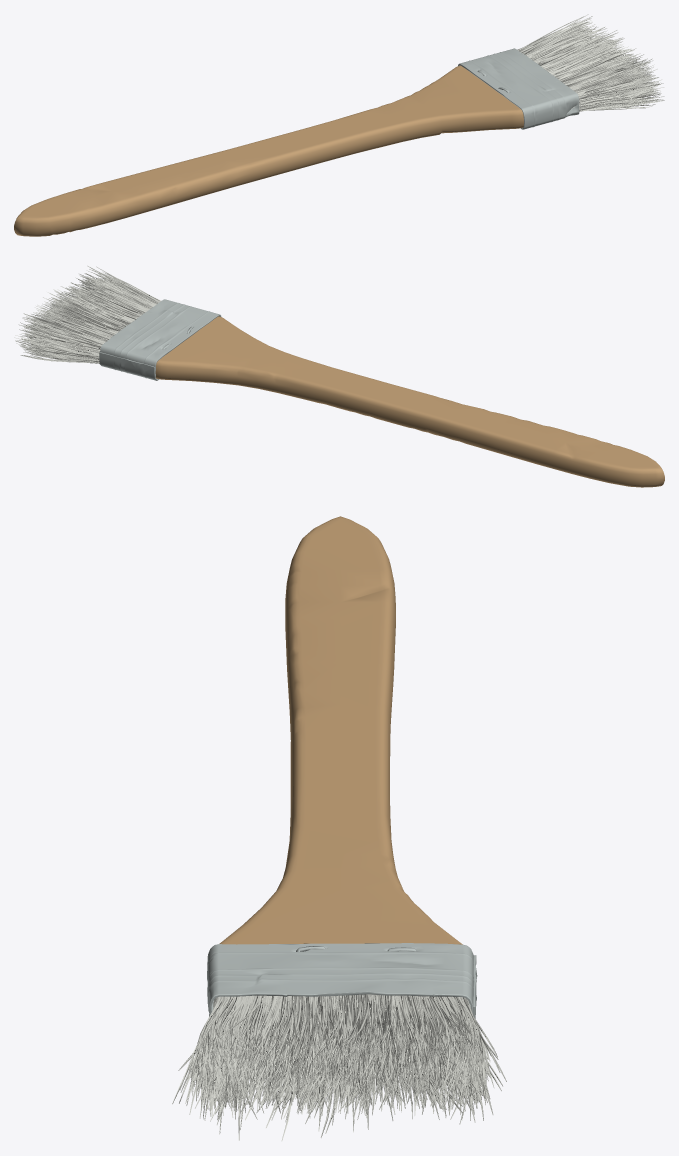
Rendered from paint_supplies_brush_a04.glb.
The picture shows the model from 3 angles, top to bottom: view 1: azimuth 30°, elevation 25°; view 2: azimuth 150°, elevation 25°; view 3: azimuth 270°, elevation 25°; orthographic projection. The views are drawn at different scales.
Bounding box in the file's own units: 0.2693 × 0.0225 × 0.0635.
